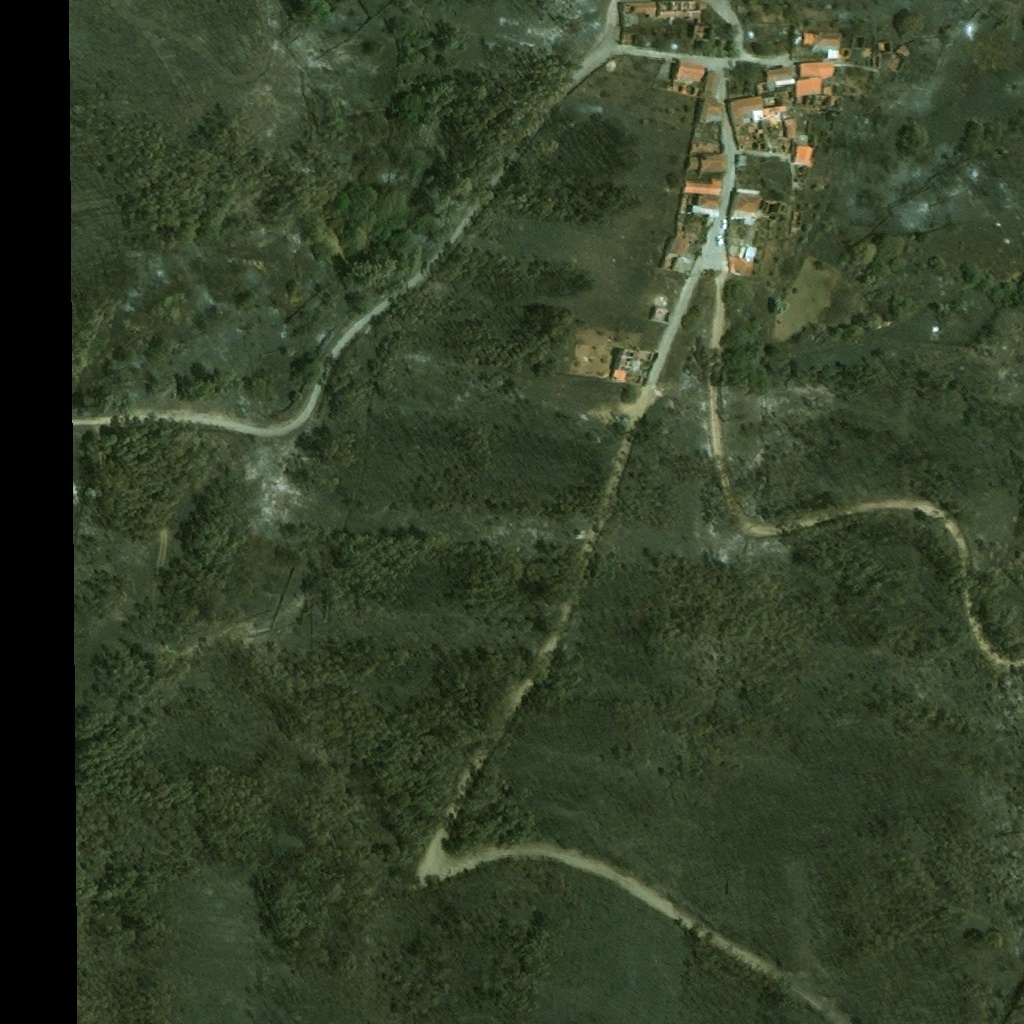0 no-damage: (800, 30, 855, 59), (670, 59, 706, 85), (797, 61, 835, 80), (788, 143, 816, 168), (695, 99, 722, 123), (727, 254, 754, 278), (679, 180, 720, 195), (766, 66, 795, 87), (697, 153, 724, 175), (703, 71, 720, 100), (741, 244, 758, 261), (688, 156, 699, 173)
2 major-damage: (726, 81, 791, 126), (727, 186, 783, 226), (794, 78, 838, 116), (656, 236, 691, 276), (676, 193, 720, 218)
3 destroyed: (616, 0, 703, 46), (734, 119, 799, 152), (609, 347, 641, 383), (675, 221, 704, 246), (688, 142, 723, 156), (689, 24, 710, 43), (647, 303, 665, 324), (887, 53, 902, 76), (677, 192, 694, 204), (869, 54, 879, 68)
